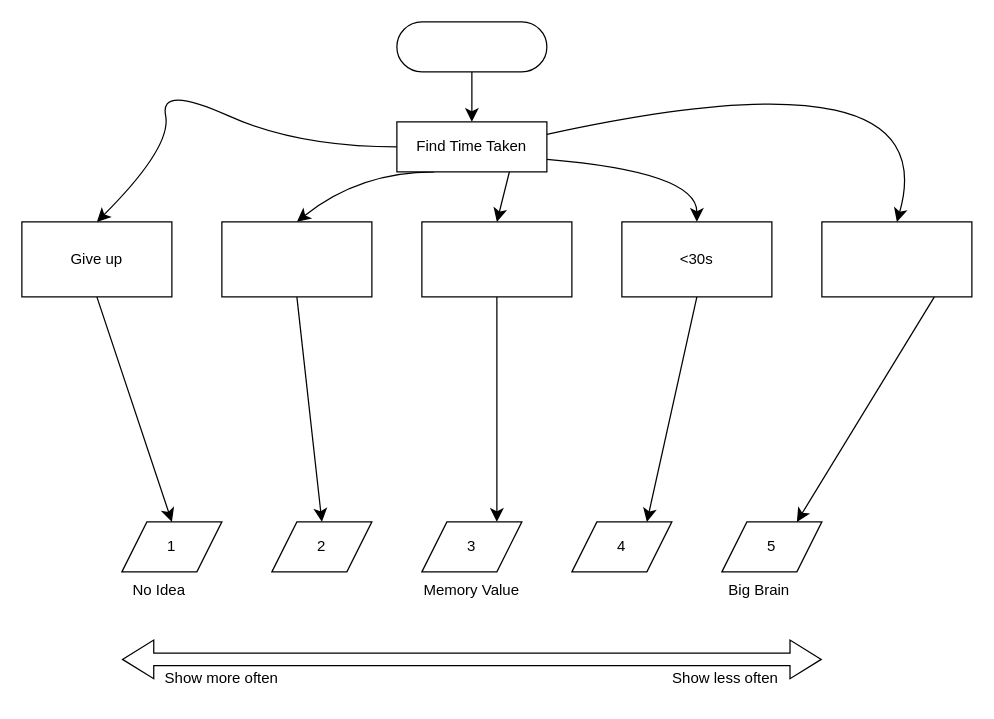
This 994x719 diagram has some shape labels left out. The shapes that lost their labels are listed below. From the top down, each one's box as (x1, y1, x2, y2) in pixels, then its label:
(396, 21, 547, 72): Flashcard
(221, 221, 372, 297): >2m
(421, 221, 572, 297): <1m
(821, 221, 972, 297): <10s
